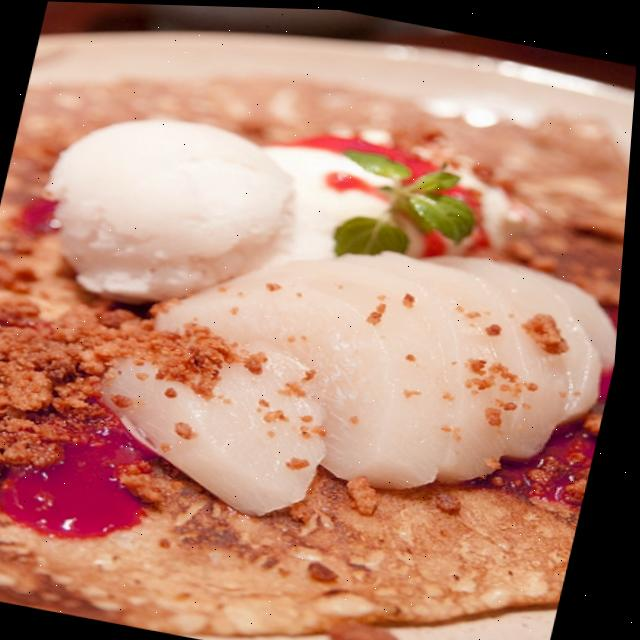鸡蛋料理: (0, 7, 640, 620)
